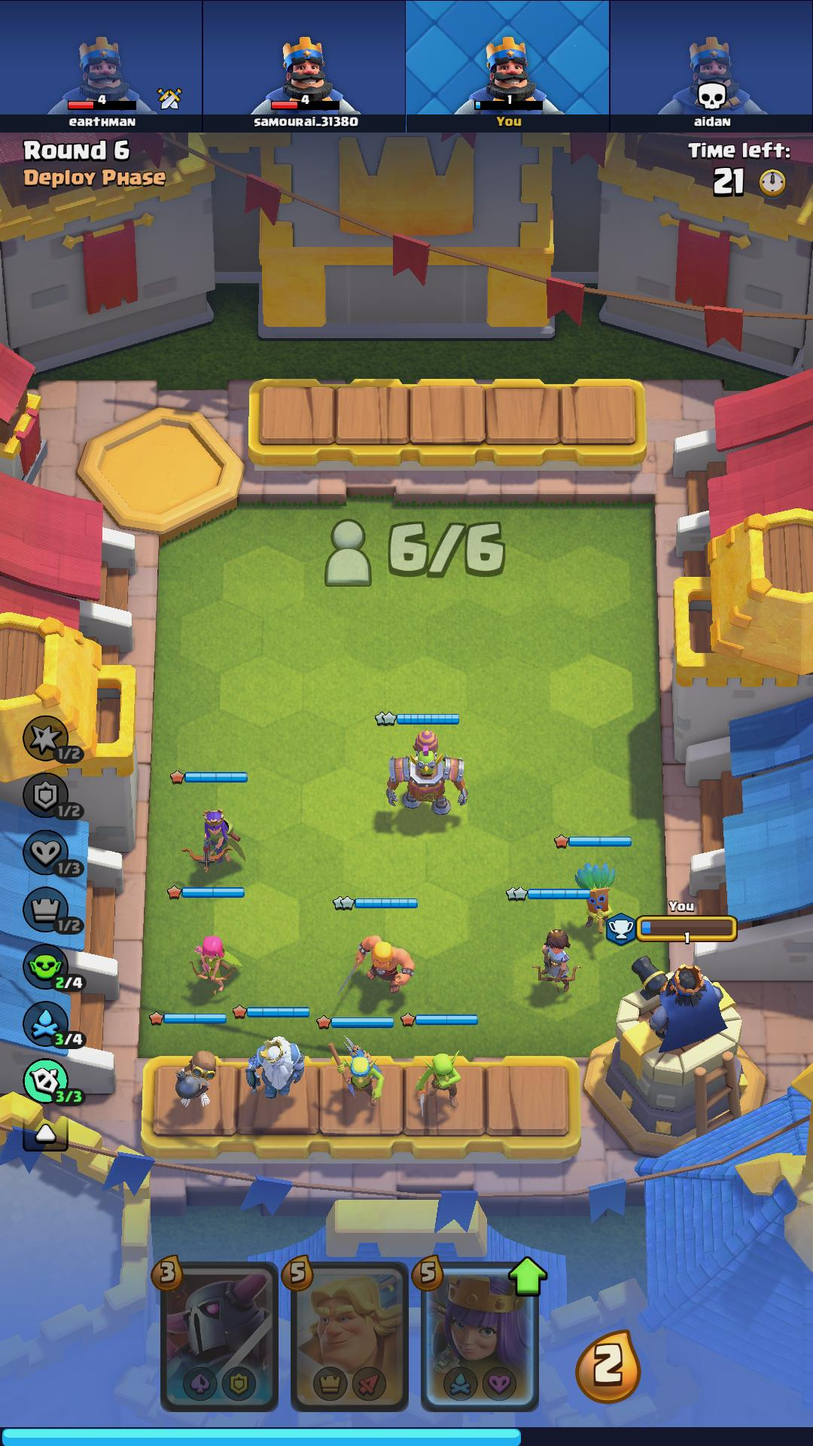archer: (183, 928, 253, 995)
barbarian: (343, 920, 437, 994)
bomber: (169, 1036, 227, 1112)
dart: (556, 854, 629, 938)
ghost: (250, 1026, 306, 1117)
goblin: (409, 1044, 468, 1113)
hand-golden: (291, 1259, 408, 1410)
hand-pekka: (161, 1263, 279, 1412)
hand-queen: (427, 1264, 534, 1410)
machine: (378, 723, 470, 825)
princess: (524, 916, 580, 997)
queen: (177, 793, 248, 875)
spear: (326, 1031, 393, 1121)
upgrade: (506, 1251, 548, 1299)
